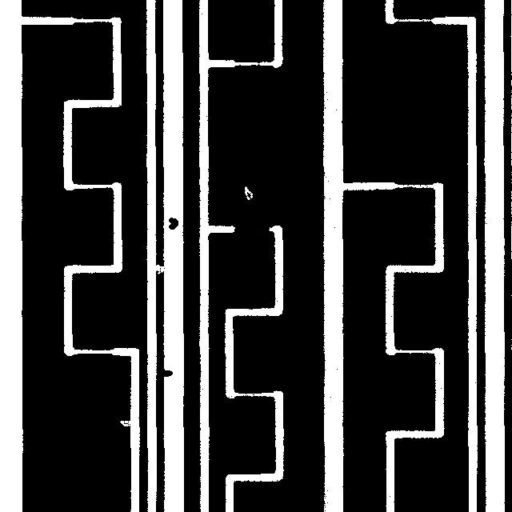copper: (161, 210, 186, 237)
mousebite: (112, 413, 139, 434)
open: (145, 257, 175, 282)
pin-hole: (237, 178, 260, 207)
short: (226, 217, 277, 241)
spur: (151, 362, 180, 385)
